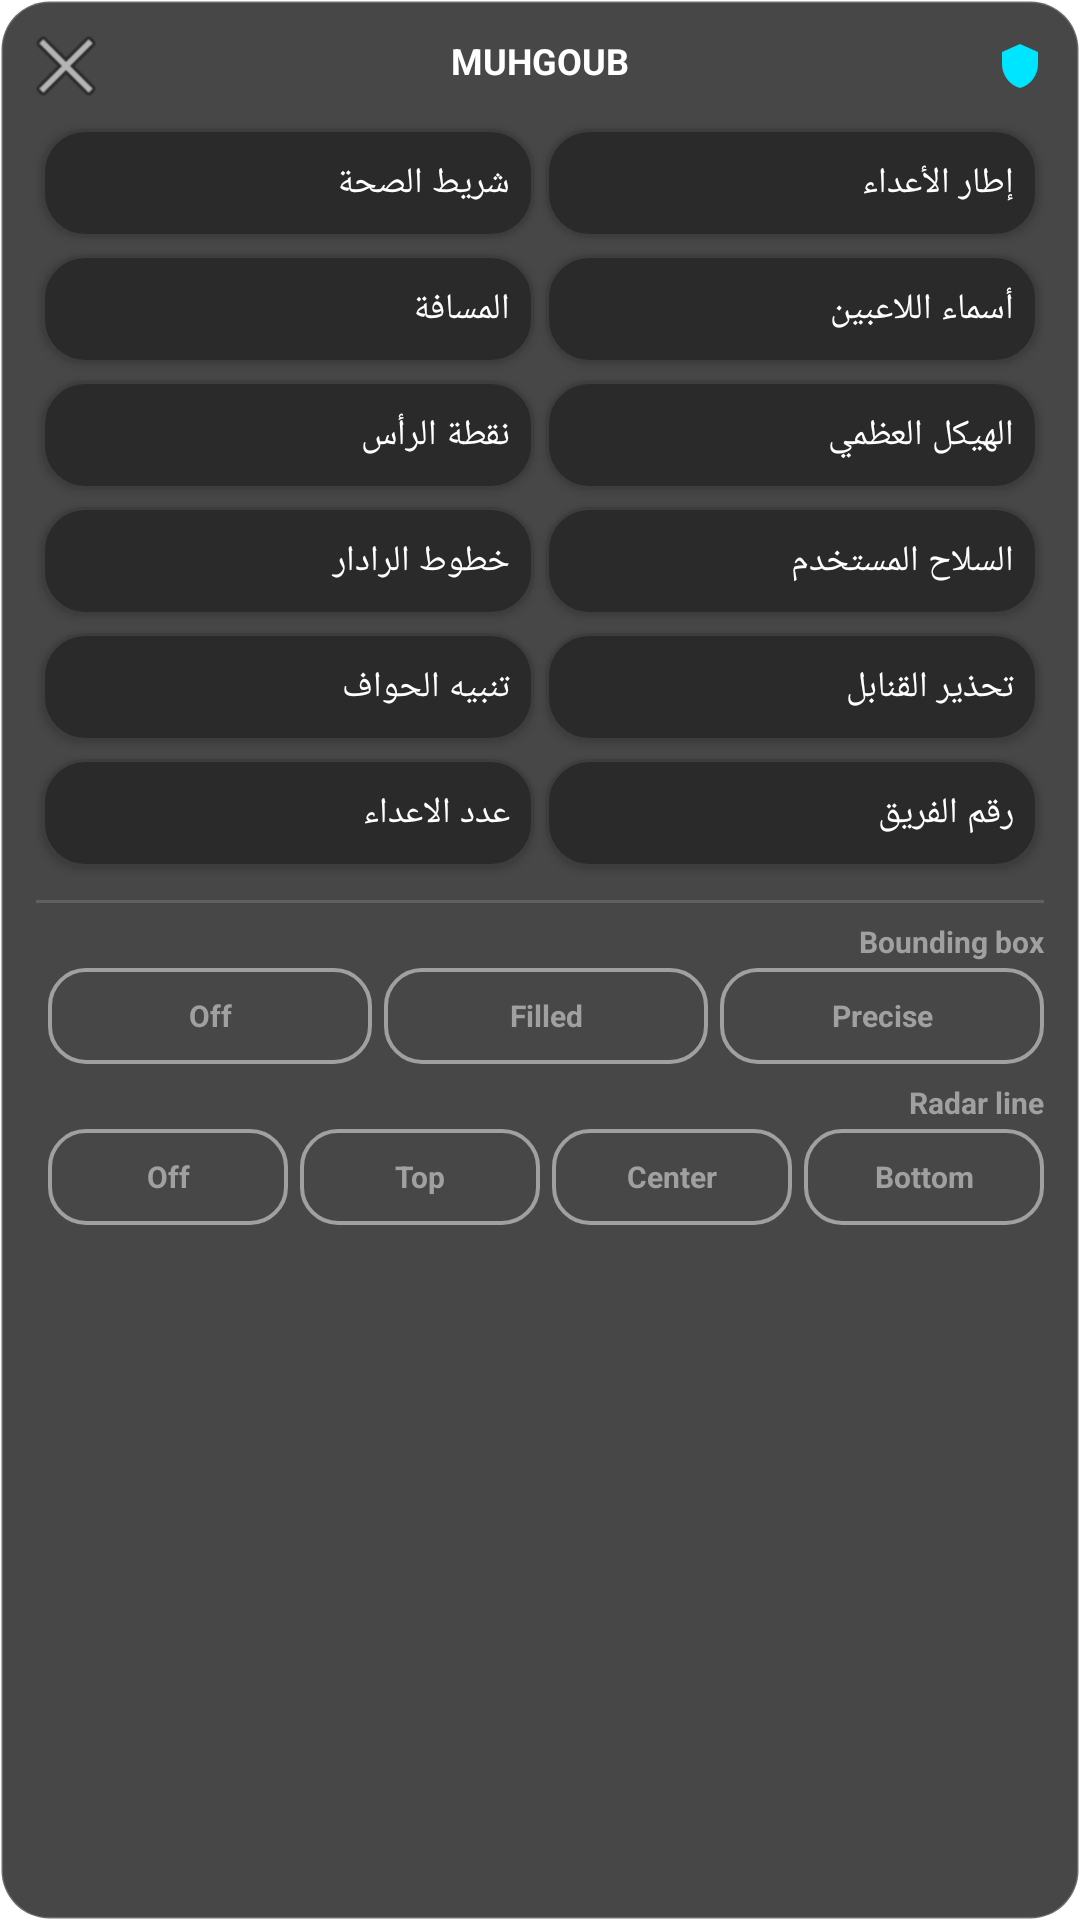

Point at icon controls on the screen. Image size 1080×1920, points as [x,y].
shield: [1020,66]
إغلاق: [66,66]
